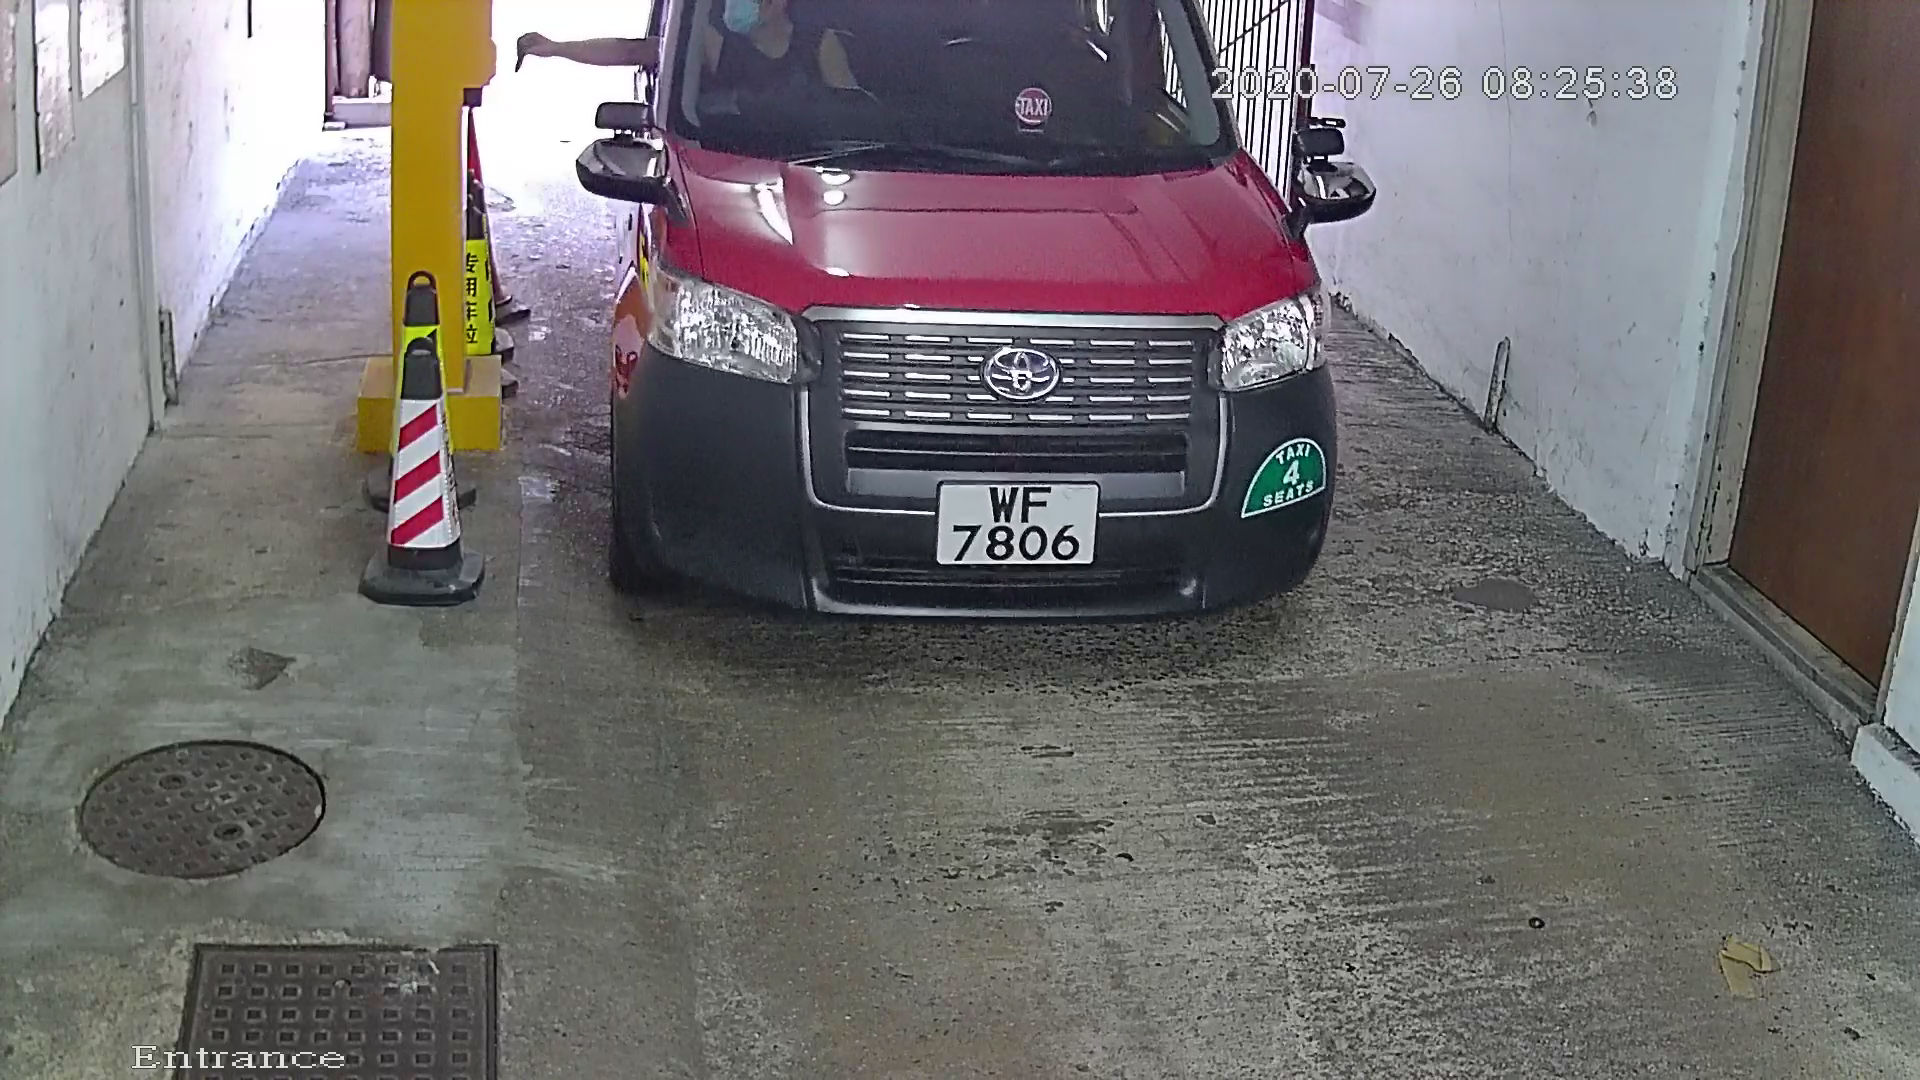taxi: (574, 1, 1390, 651)
taxi_mark: (1234, 425, 1342, 526)
